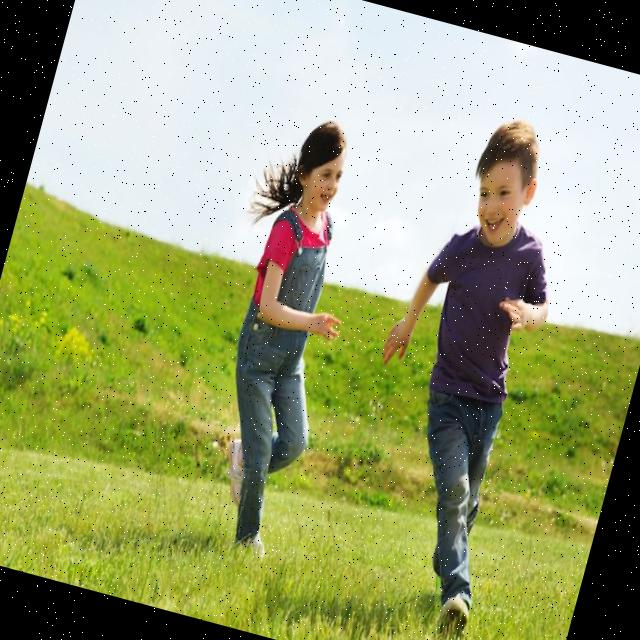Person: (316, 100, 596, 640), (162, 105, 388, 562)
